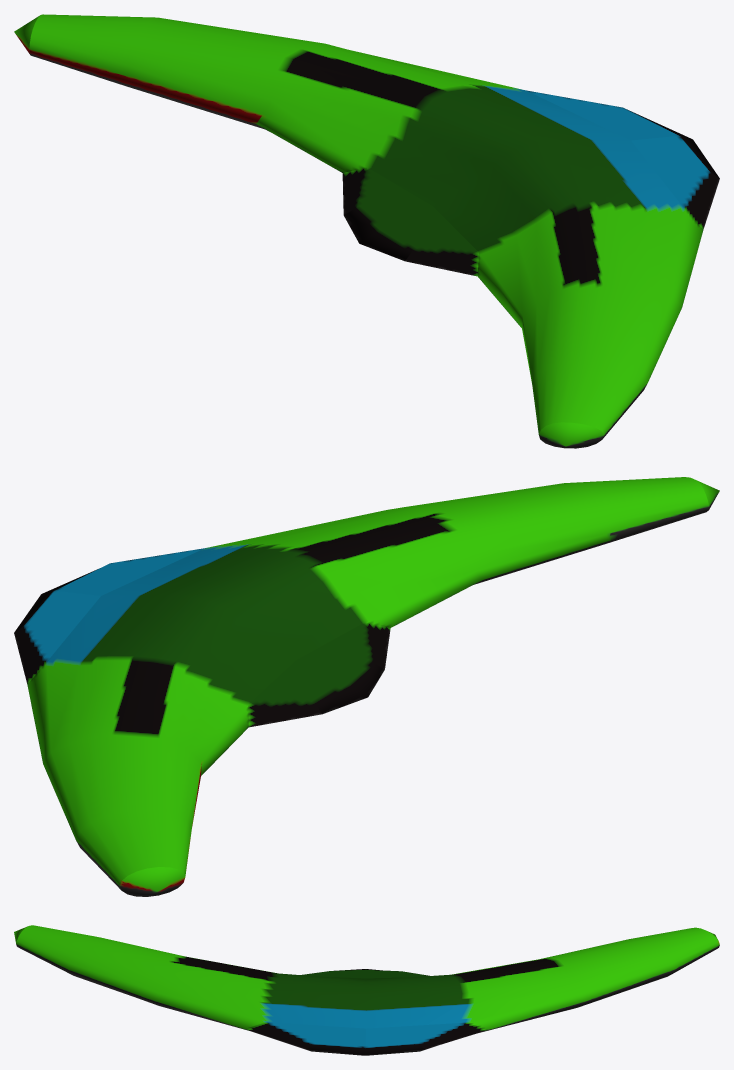
Rendered from mini ship 1 texture 3FBX.FBX.
3 views of the same model, one above another, from view 1: azimuth 30°, elevation 25°; view 2: azimuth 150°, elevation 25°; view 3: azimuth 270°, elevation 25° (orthographic). The views are drawn at different scales.
Parts seen in each view (by area): view 1: Cylinder001; view 2: Cylinder001; view 3: Cylinder001.
Part boxes in pixels (<box>): Cylinder001: <box>14,14,719,448</box>; Cylinder001: <box>14,477,719,896</box>; Cylinder001: <box>14,925,719,1055</box>.
Size of the model in its own units: 34.06 by 5.41 by 80.08.
Materials: 1 (1 with a texture image).
